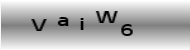6: (120, 23, 134, 36)
V: (30, 18, 47, 31)
W: (95, 9, 118, 24)
a: (56, 16, 69, 27)
i: (79, 17, 85, 31)
